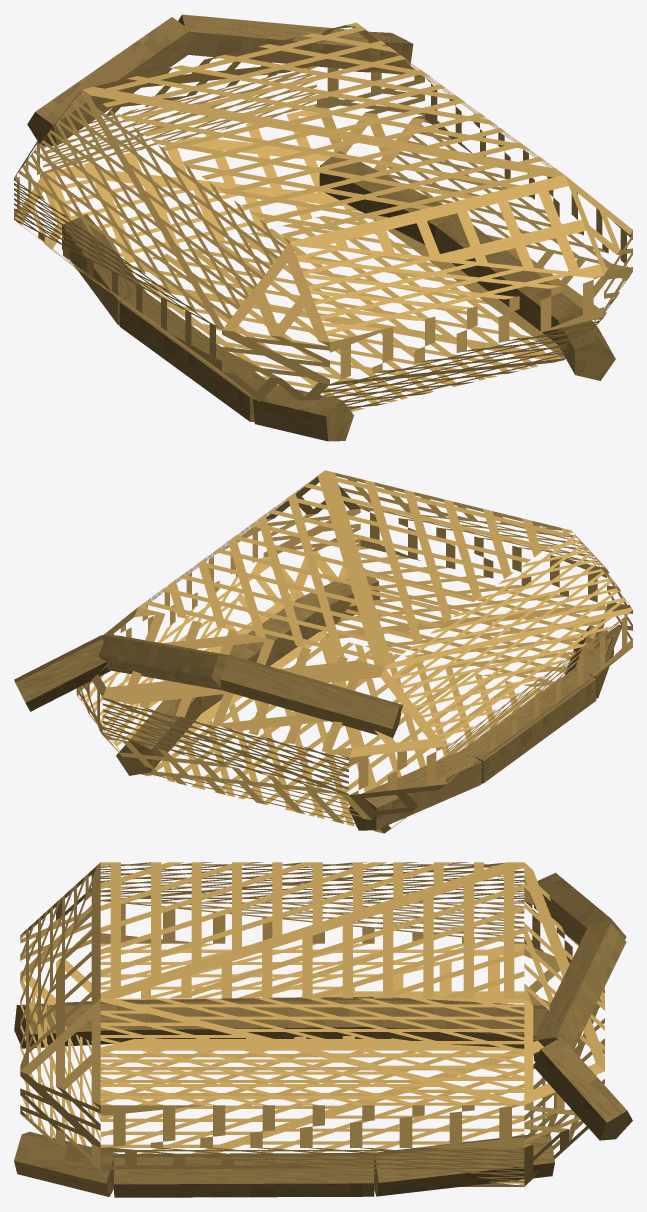
The model's file is dive_bag.glb.
The picture shows the model from 3 angles, top to bottom: view 1: azimuth 30°, elevation 25°; view 2: azimuth 150°, elevation 25°; view 3: azimuth 270°, elevation 25°; orthographic projection. The views are drawn at different scales.
Visible parts, largest first — view 1: block_rounded dry or mesh bag, block_backpack strap 1 (×2), block_backpack strap 0 (×2), block_backpack strap 2 (×2), block_drawcord mouth 0, block_drawcord mouth 1, block_drawcord mouth 2; view 2: block_rounded dry or mesh bag, block_backpack strap 1 (×2), block_drawcord mouth 0, block_backpack strap 0 (×2), block_drawcord mouth 1, block_drawcord mouth 2, block_backpack strap 2 (×2); view 3: block_rounded dry or mesh bag, block_backpack strap 1 (×2), block_backpack strap 0 (×2), block_backpack strap 2 (×2), block_drawcord mouth 1, block_drawcord mouth 2, block_drawcord mouth 0.
Part boxes in pixels (x1,y1,x2,y2): block_rounded dry or mesh bag: [14, 22, 632, 411]; block_backpack strap 1 (×2): [119, 213, 581, 421]; block_backpack strap 0 (×2): [62, 151, 452, 325]; block_backpack strap 2 (×2): [253, 308, 615, 441]; block_drawcord mouth 0: [27, 17, 190, 145]; block_drawcord mouth 1: [178, 14, 369, 70]; block_drawcord mouth 2: [355, 31, 413, 73]; block_rounded dry or mesh bag: [76, 470, 632, 833]; block_backpack strap 1 (×2): [201, 599, 596, 783]; block_drawcord mouth 0: [220, 655, 402, 738]; block_backpack strap 0 (×2): [116, 696, 481, 830]; block_drawcord mouth 1: [98, 635, 234, 690]; block_drawcord mouth 2: [14, 635, 110, 711]; block_backpack strap 2 (×2): [298, 568, 613, 698]; block_rounded dry or mesh bag: [20, 862, 604, 1186]; block_backpack strap 1 (×2): [114, 996, 374, 1197]; block_backpack strap 0 (×2): [371, 997, 554, 1196]; block_backpack strap 2 (×2): [14, 1001, 118, 1196]; block_drawcord mouth 1: [533, 923, 626, 1061]; block_drawcord mouth 2: [533, 1037, 632, 1140]; block_drawcord mouth 0: [533, 872, 626, 944].
Bounding box in the file's own units: 0.1913 × 0.0807 × 0.2289.
2 materials, 2 textured.
